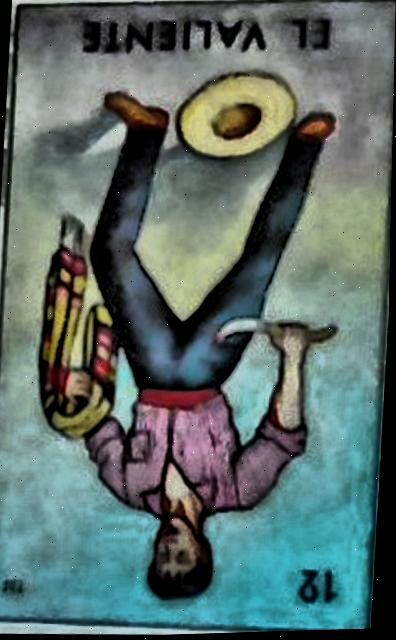El Valiente: (0, 0, 396, 633)
